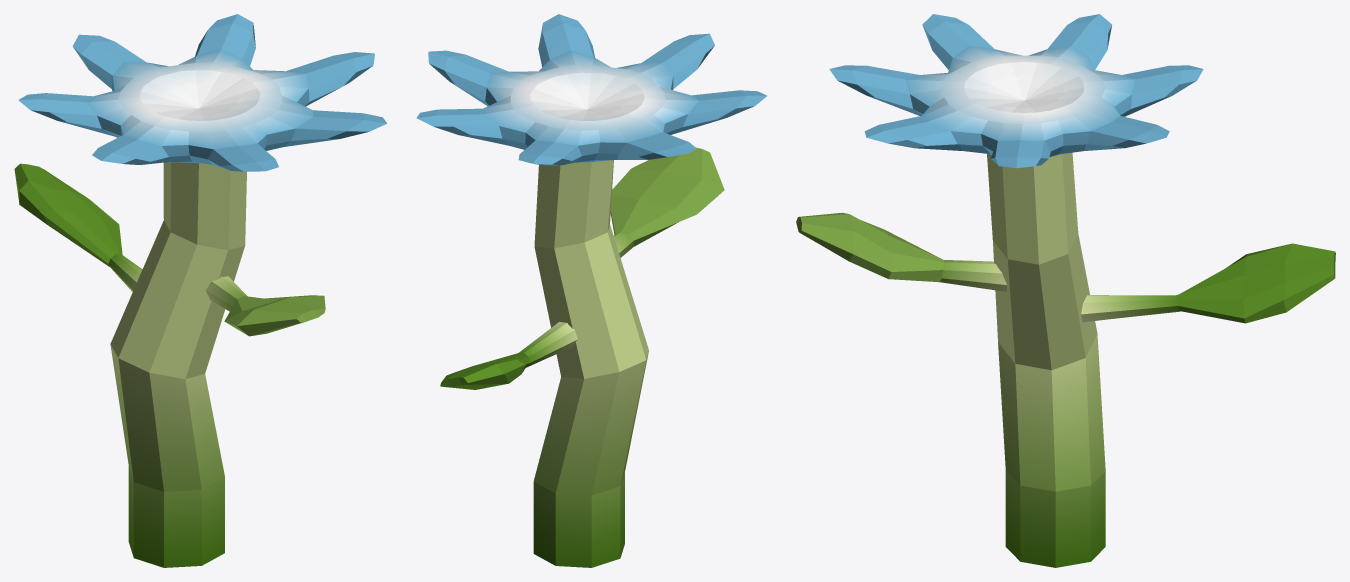
Rendered from fleurGlace.fbx.
The picture shows the model from 3 angles, left to right: view 1: azimuth 30°, elevation 25°; view 2: azimuth 150°, elevation 25°; view 3: azimuth 270°, elevation 25°; orthographic projection. The views are drawn at different scales.
Visible parts, largest first — view 1: Cylinder, Sphere, Cylinder.001, Cylinder.002; view 2: Cylinder, Sphere, Cylinder.002, Cylinder.001; view 3: Cylinder, Sphere, Cylinder.001, Cylinder.002.
Part boxes in pixels (x1,y1,x2,y2): Cylinder: (110, 162, 246, 567); Sphere: (18, 14, 386, 171); Cylinder.001: (14, 163, 142, 291); Cylinder.002: (205, 276, 325, 336); Cylinder: (533, 160, 648, 567); Sphere: (416, 14, 767, 165); Cylinder.002: (610, 147, 724, 257); Cylinder.001: (440, 322, 577, 389); Cylinder: (987, 152, 1105, 567); Sphere: (829, 14, 1203, 168); Cylinder.001: (1081, 243, 1335, 323); Cylinder.002: (796, 212, 1006, 291).
Bounding box in the file's own units: 83.42 × 118 × 123.
4 materials, 4 textured.
